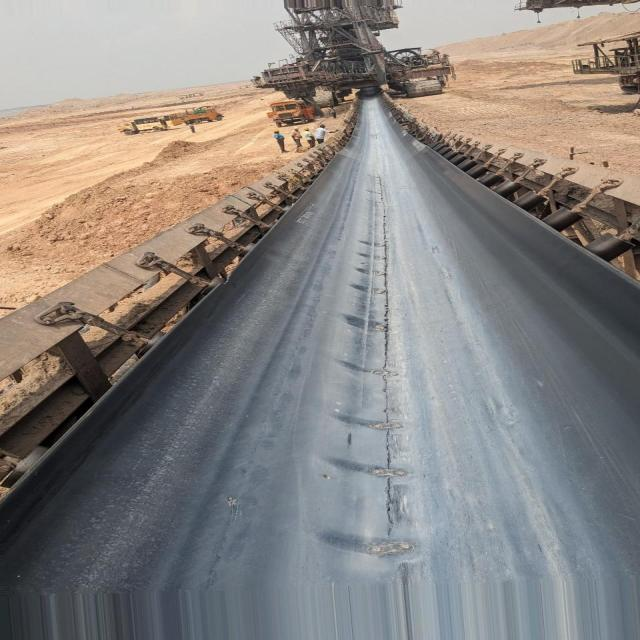Human: (300, 124, 340, 151), (272, 127, 311, 152)
Roller: (454, 154, 629, 260)
patch work: (347, 174, 417, 557)
